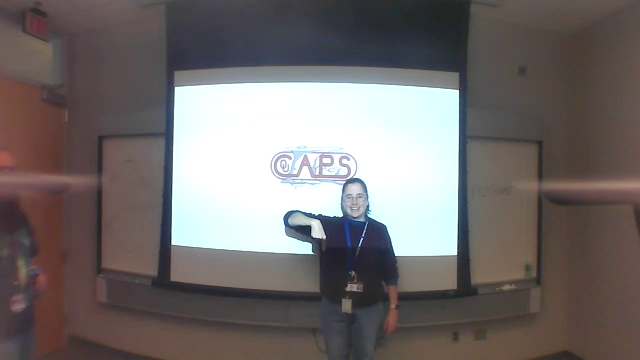down: (310, 219, 329, 255)
